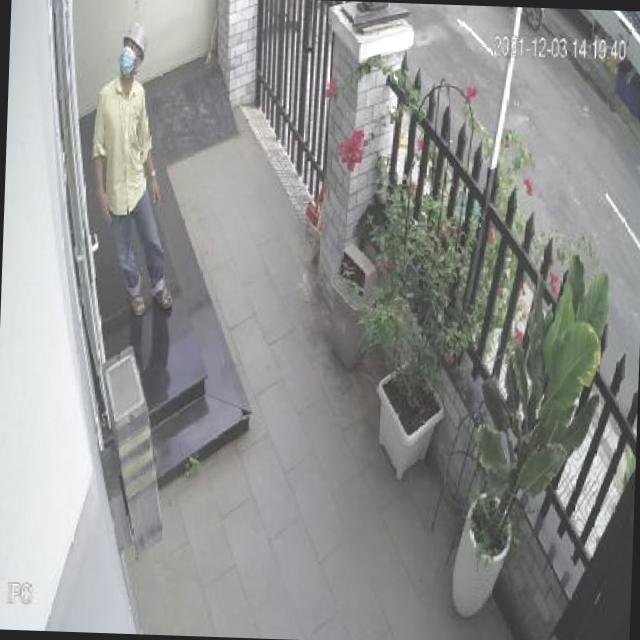Person: (84, 21, 182, 316)
